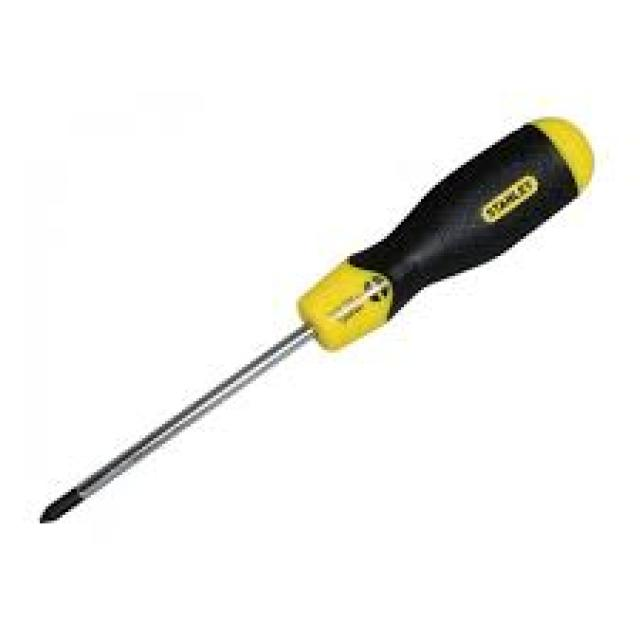screwdriver: (37, 114, 594, 523)
